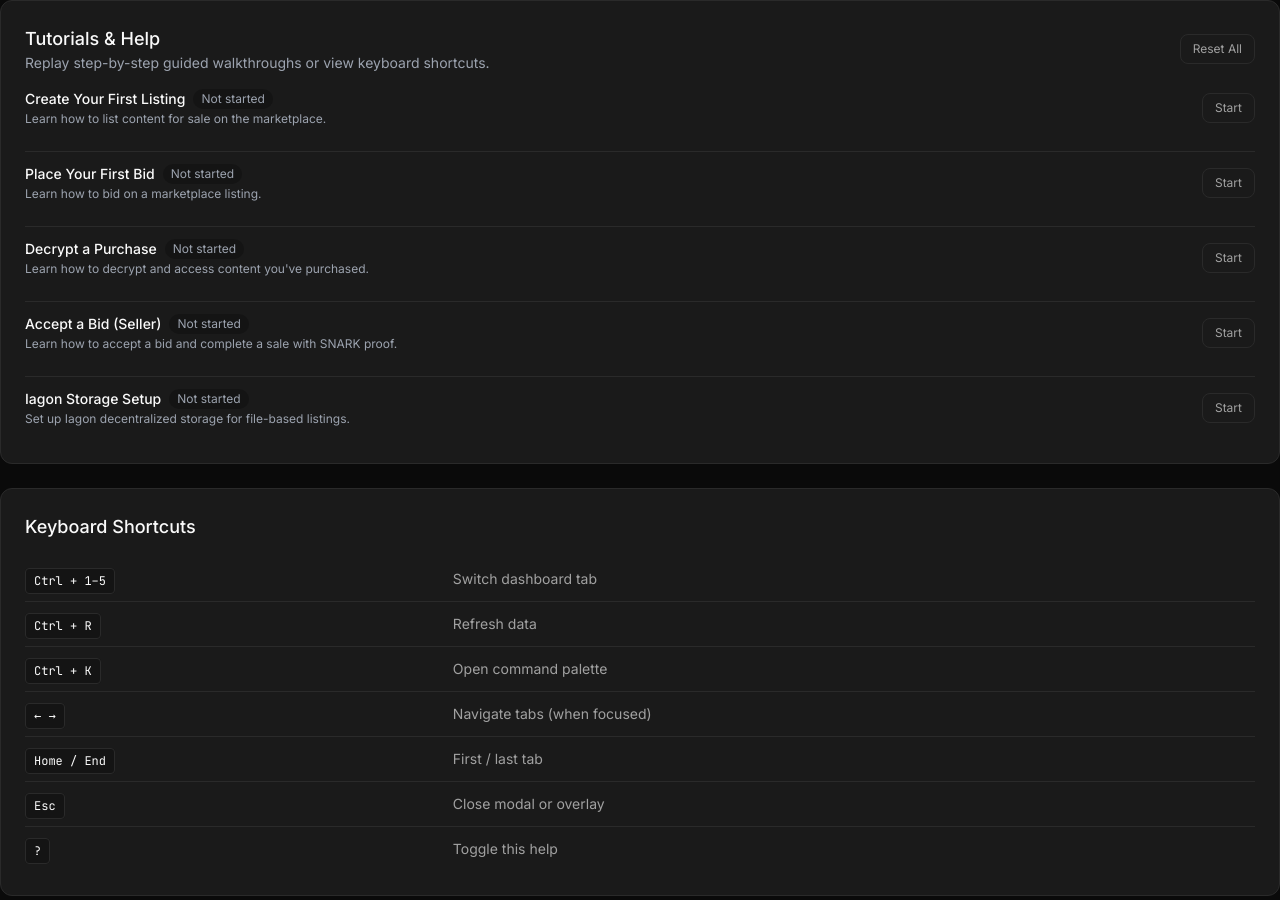
Test case: TutorialsSection › Reset All button disables after click
Step 1. Click the button "Reset All" → (1217, 49), box [1180,34,1255,64]
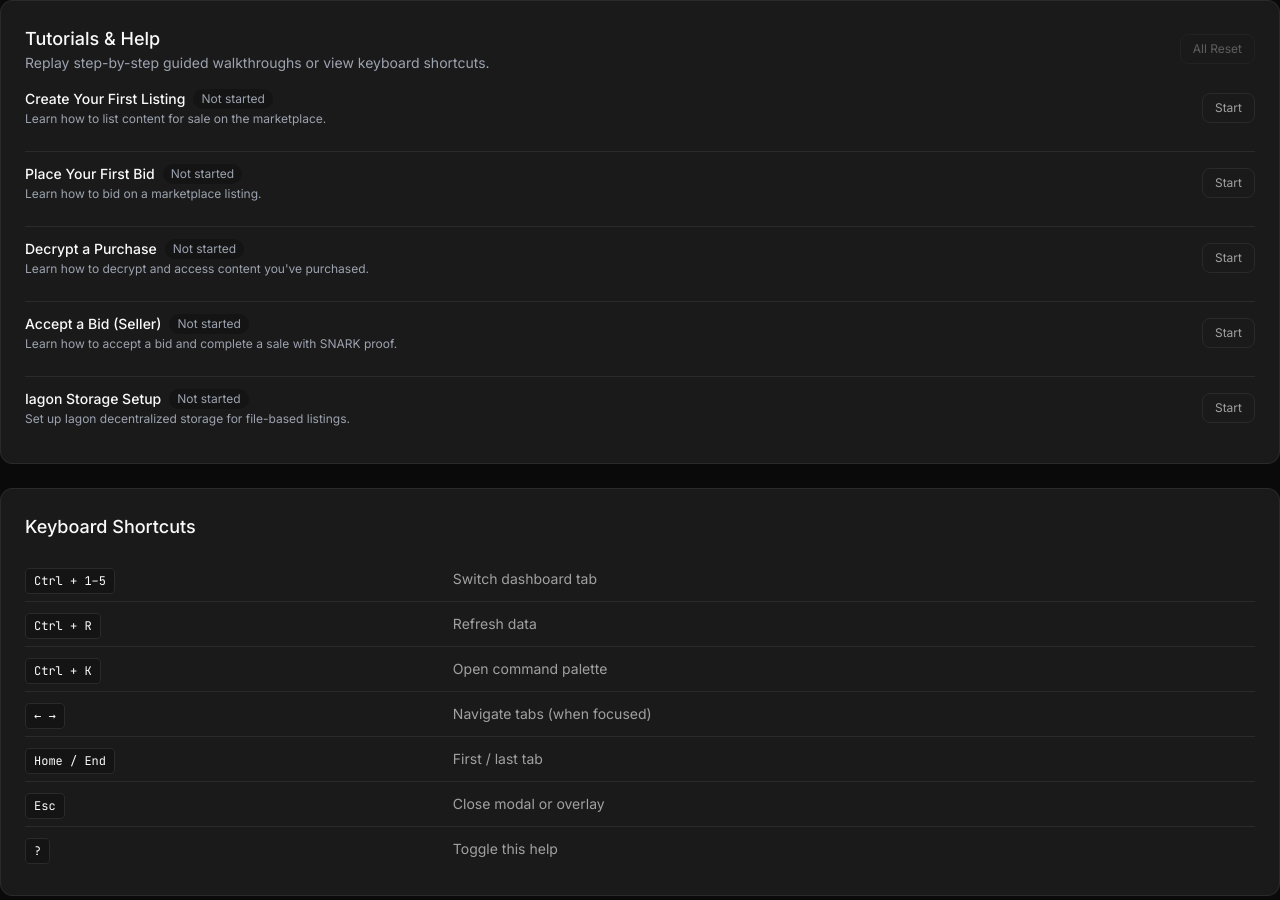
expect the button "All Reset" is shown: met, box [1180,34,1255,64]
